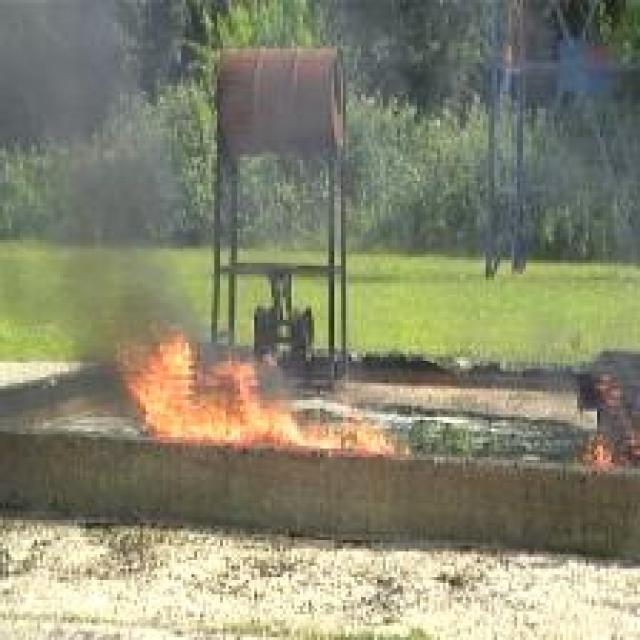Fire: (122, 324, 412, 452)
